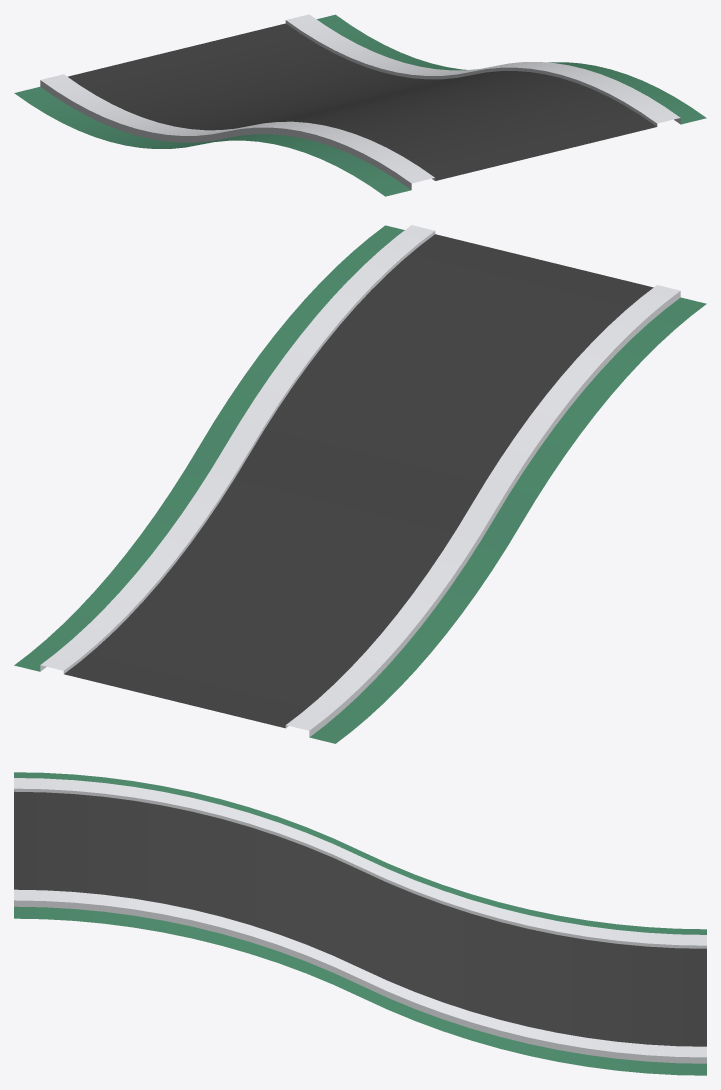
The model's file is road-ramp-long-curved.dae.
3 views of the same model, one above another, from view 1: azimuth 30°, elevation 25°; view 2: azimuth 150°, elevation 25°; view 3: azimuth 270°, elevation 25° (orthographic). The views are drawn at different scales.
Parts seen in each view (by area): view 1: roadRampLongCurved; view 2: roadRampLongCurved; view 3: roadRampLongCurved.
Part boxes in pixels (x1=…): roadRampLongCurved: x1=14, y1=14, x2=706, y2=196; roadRampLongCurved: x1=14, y1=225, x2=706, y2=743; roadRampLongCurved: x1=14, y1=772, x2=706, y2=1075.
Size of the model in its own units: 1 by 0.52 by 2.
